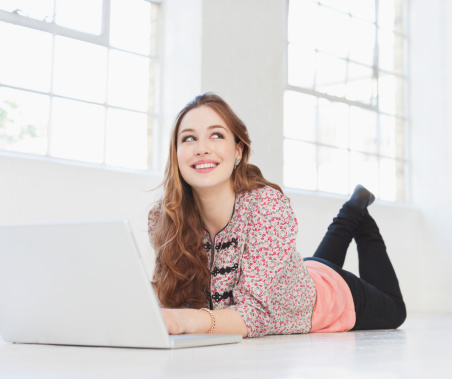deitado: (117, 77, 390, 333)
